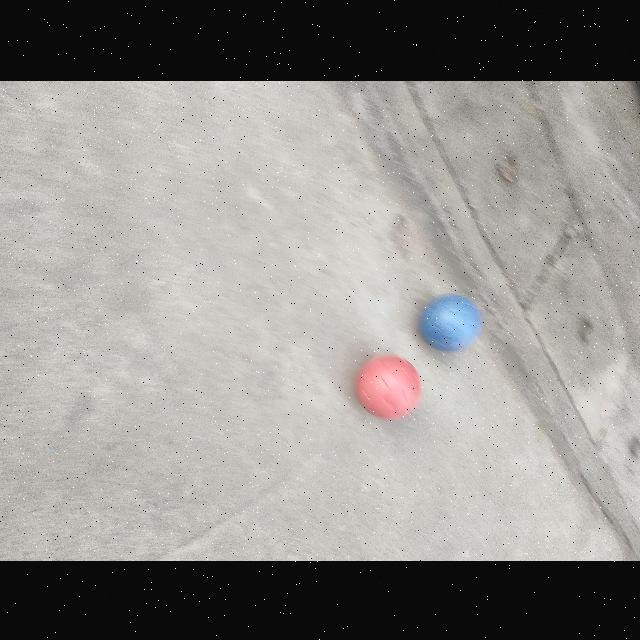B: (419, 294, 483, 352)
R: (354, 354, 422, 420)
